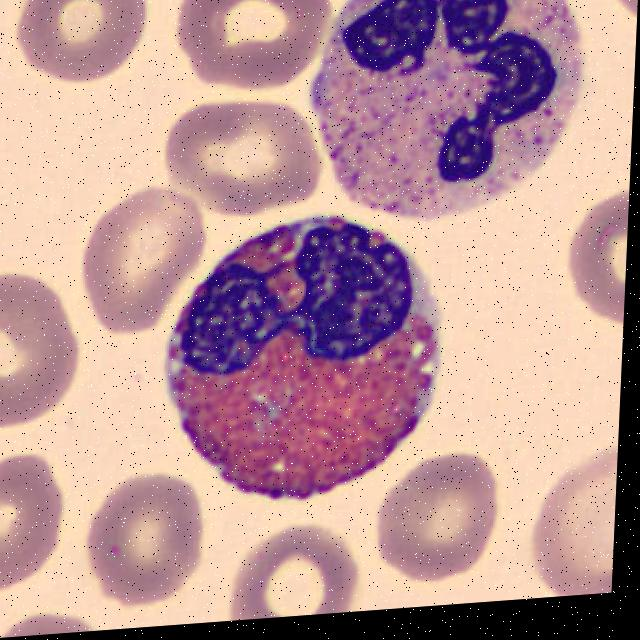eosinophil: (158, 213, 449, 512), (300, 0, 590, 228)
rbc: (159, 99, 324, 227), (75, 185, 205, 338), (371, 443, 500, 589), (84, 467, 209, 616), (160, 0, 331, 105), (222, 510, 372, 621), (556, 188, 629, 400), (527, 438, 618, 599), (0, 258, 84, 428), (9, 0, 150, 98), (0, 451, 67, 594), (592, 0, 640, 55)
